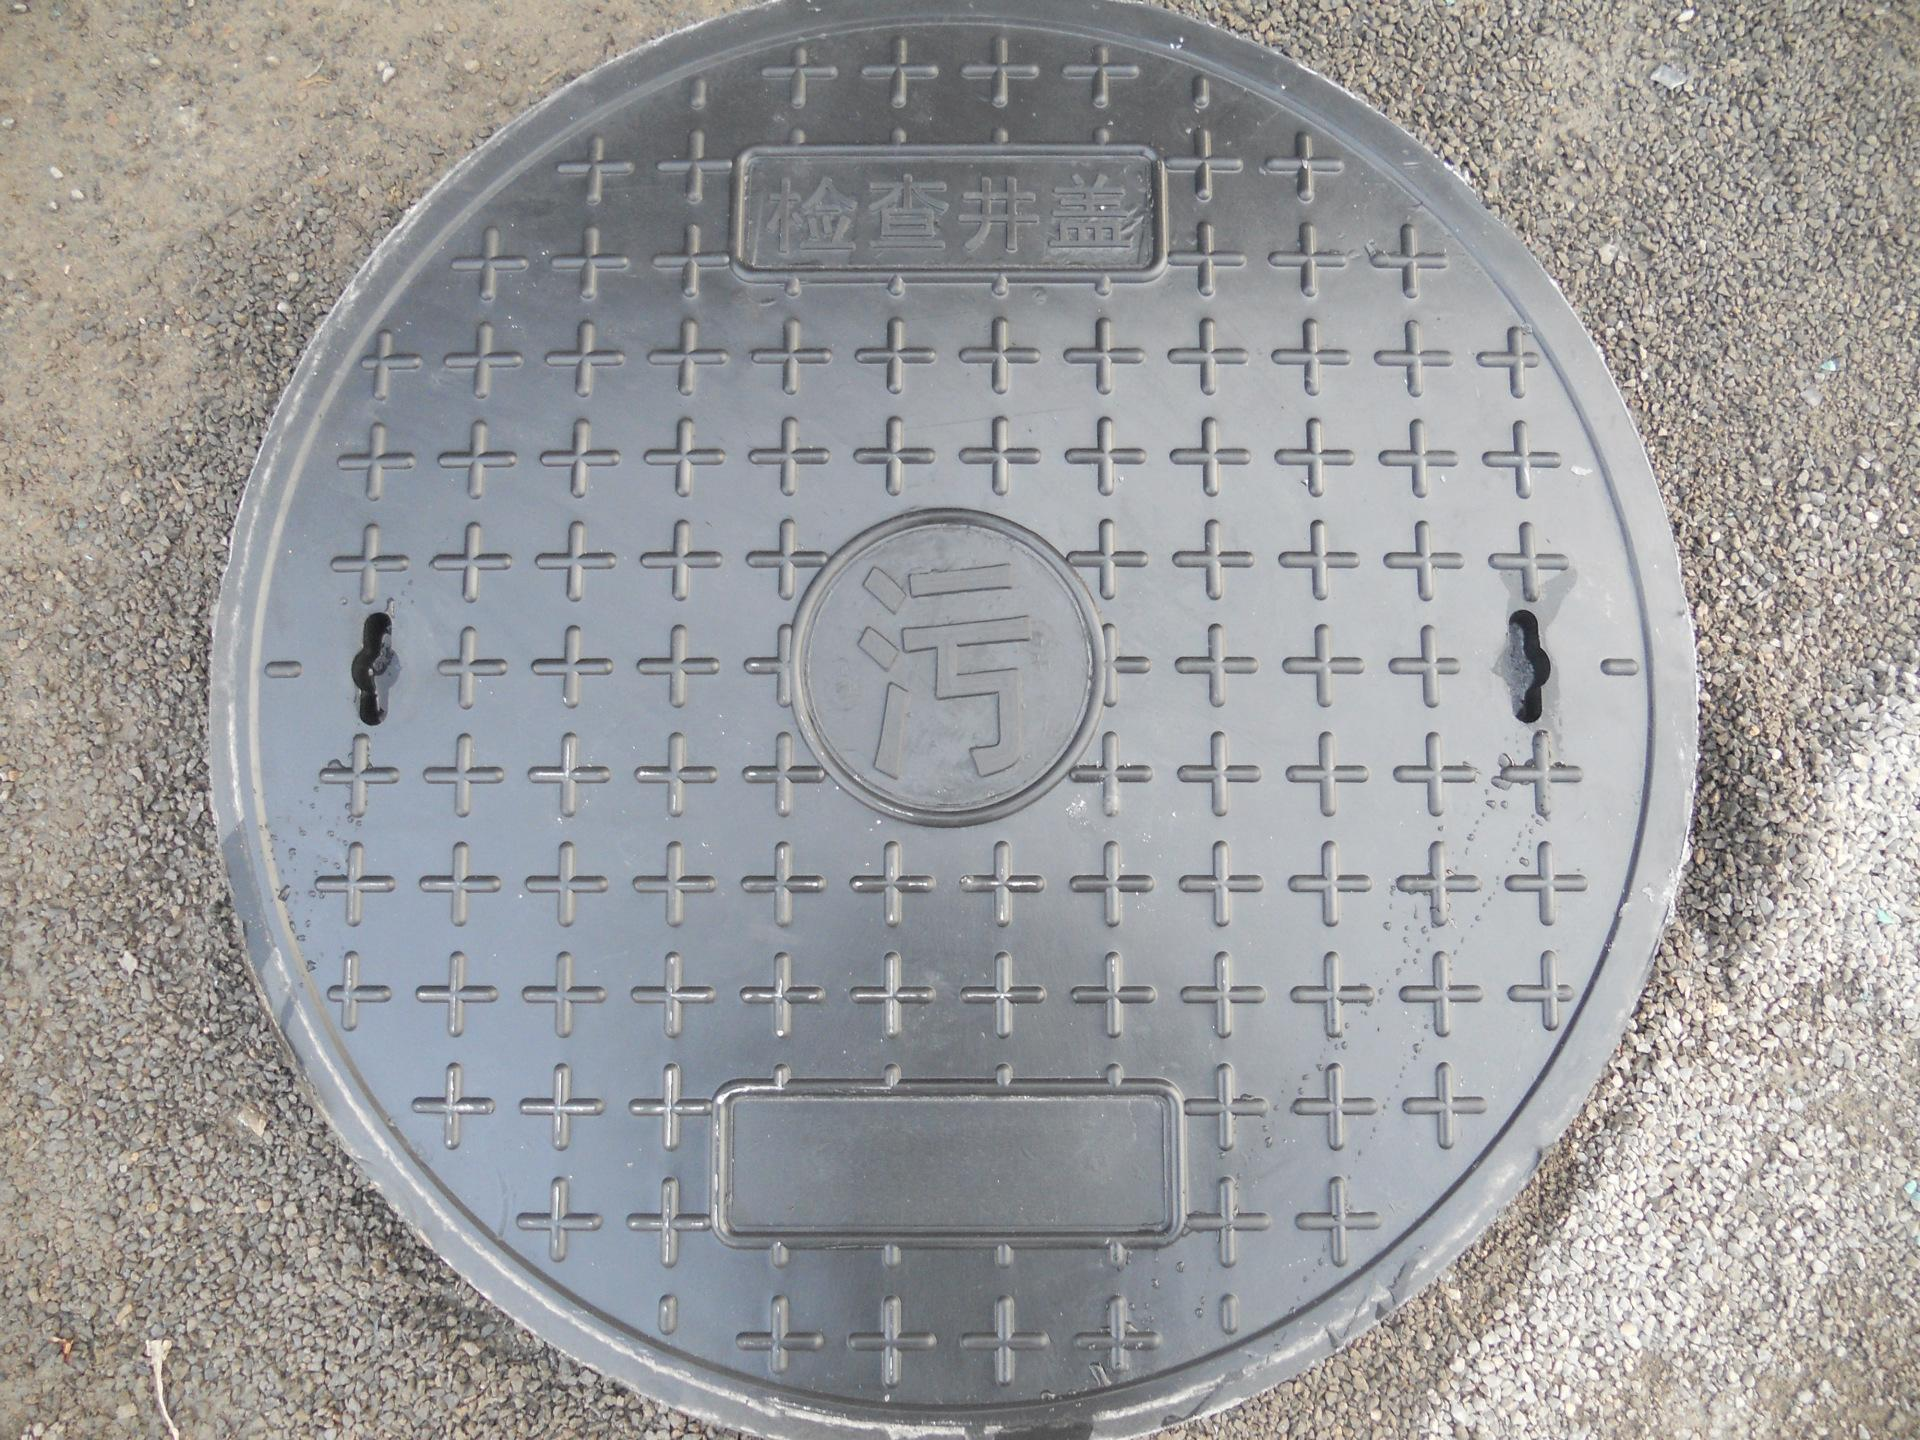wellcover: (213, 0, 1713, 1440)
